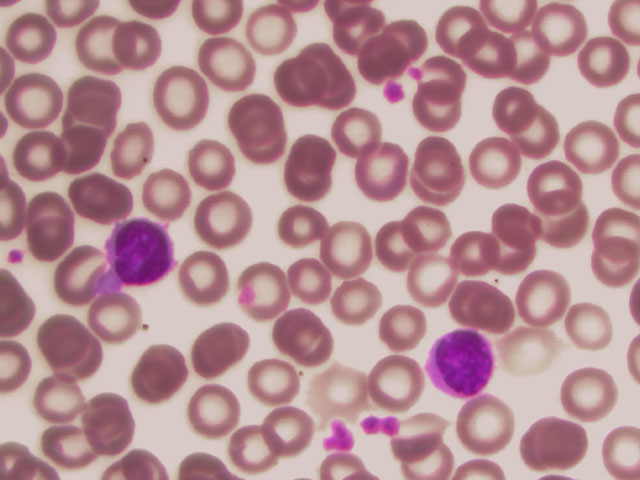Platelets: (322, 419, 358, 454), (359, 411, 404, 437), (380, 78, 406, 105), (1, 240, 26, 265), (404, 61, 424, 82)
RBC: (153, 68, 212, 126), (201, 35, 260, 93), (114, 19, 173, 77), (65, 16, 124, 74), (64, 69, 123, 127), (49, 118, 108, 176), (14, 128, 73, 186), (107, 121, 166, 179), (76, 166, 135, 224), (134, 163, 193, 221), (176, 137, 235, 195), (198, 189, 257, 247), (177, 246, 236, 304), (232, 267, 291, 325), (275, 249, 334, 307), (318, 221, 377, 279), (276, 198, 335, 256), (368, 218, 427, 276), (401, 202, 460, 260), (406, 252, 465, 310), (436, 225, 495, 283), (481, 228, 540, 286), (491, 198, 550, 256), (538, 194, 597, 252), (581, 203, 640, 261), (560, 293, 619, 351), (509, 268, 568, 326), (503, 321, 562, 379), (556, 361, 615, 419), (528, 417, 587, 475), (458, 396, 517, 454), (398, 422, 457, 480), (368, 353, 427, 411), (370, 300, 429, 358), (333, 273, 392, 331), (277, 313, 336, 371), (246, 347, 305, 405), (182, 381, 241, 439), (191, 322, 250, 380), (132, 342, 191, 400), (98, 293, 157, 351), (49, 248, 108, 306), (25, 195, 84, 253), (11, 74, 70, 132), (2, 14, 61, 72), (249, 6, 308, 64), (265, 48, 324, 106), (308, 52, 367, 110), (428, 58, 487, 116), (496, 81, 555, 139), (508, 33, 567, 91), (467, 23, 526, 81), (529, 3, 588, 61), (567, 27, 626, 85), (565, 116, 624, 174), (89, 395, 148, 453), (27, 365, 86, 423), (39, 409, 98, 467), (38, 304, 97, 362), (529, 157, 585, 209), (464, 139, 520, 191), (411, 136, 467, 188), (355, 144, 411, 196), (330, 107, 386, 159), (282, 137, 338, 189), (228, 96, 284, 148), (332, 6, 383, 50), (359, 29, 410, 73)
WBC: (108, 216, 178, 289), (425, 327, 495, 400)
